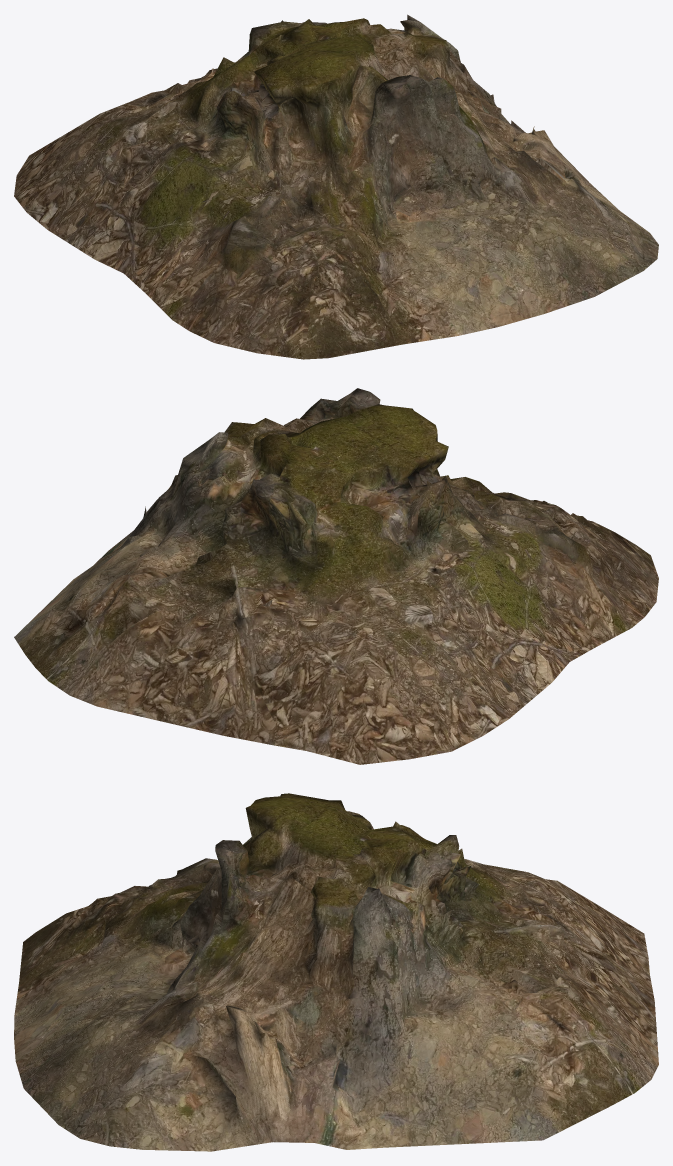
File: tree_stump_01.glb
3 views of the same model, one above another, from view 1: azimuth 30°, elevation 25°; view 2: azimuth 150°, elevation 25°; view 3: azimuth 270°, elevation 25° (orthographic). The views are drawn at different scales.
Parts seen in each view (by area): view 1: tree_stump_01; view 2: tree_stump_01; view 3: tree_stump_01.
Part boxes in pixels (x1,y1,x2,y2): tree_stump_01: (14,14,658,359); tree_stump_01: (14,388,658,764); tree_stump_01: (14,793,658,1151).
Size of the model in its own units: 1.43 by 0.571 by 1.59.
Materials: 1 (1 with a texture image).
